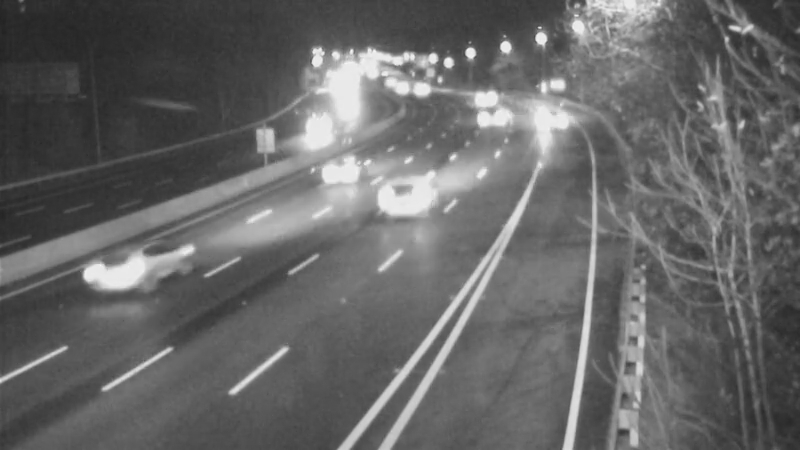vehicle: (290, 135, 370, 215), (372, 156, 452, 236), (84, 230, 164, 310), (371, 60, 421, 110), (401, 65, 451, 115), (455, 71, 505, 121), (531, 88, 581, 138), (468, 90, 518, 140), (292, 101, 342, 151)
